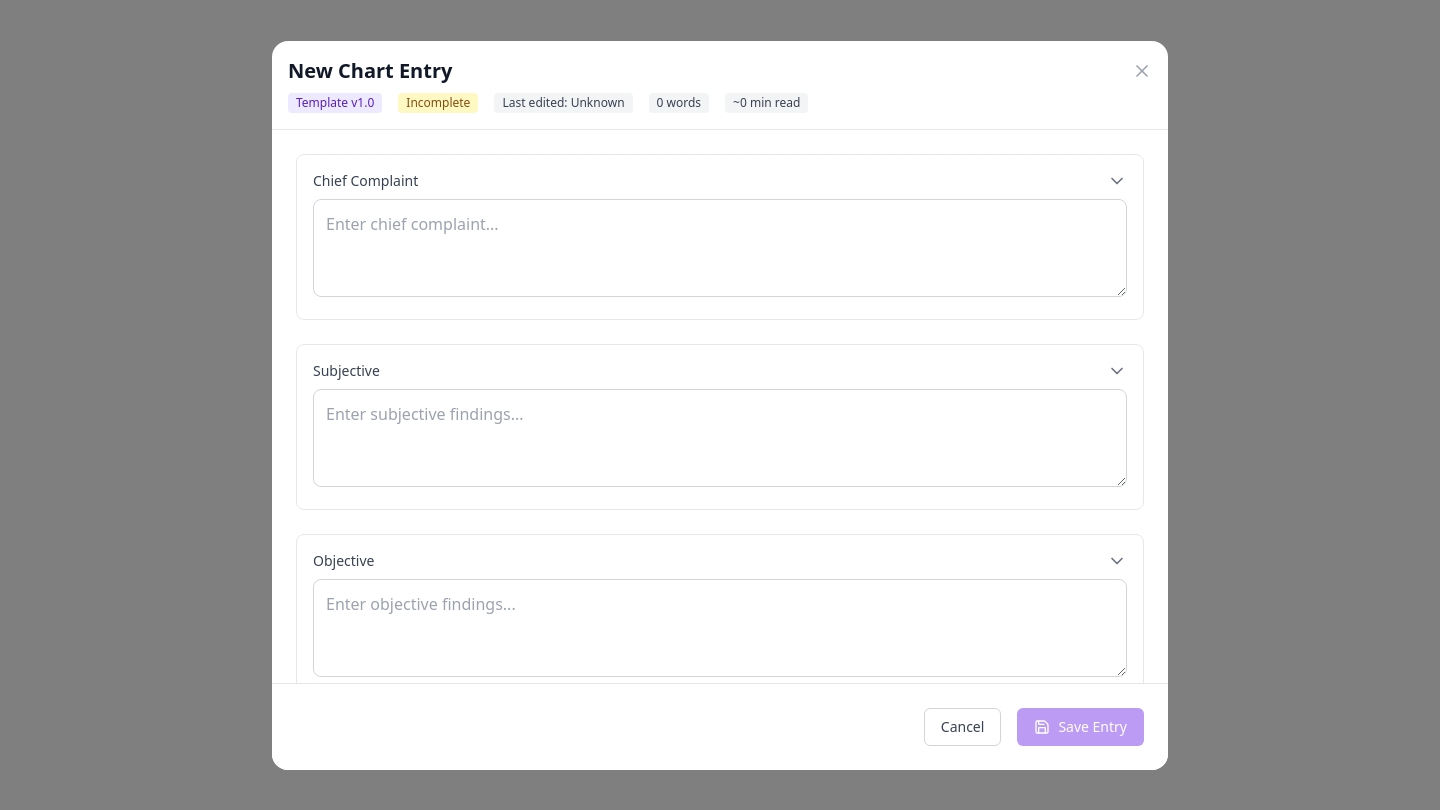
Test: NewChartEntryModal Integration › enables save button when form has content
Type "Patient reports feeling better" into the text box with placeholder "Enter subjective findings..." at x=720, y=438, box [313,388,1127,486]
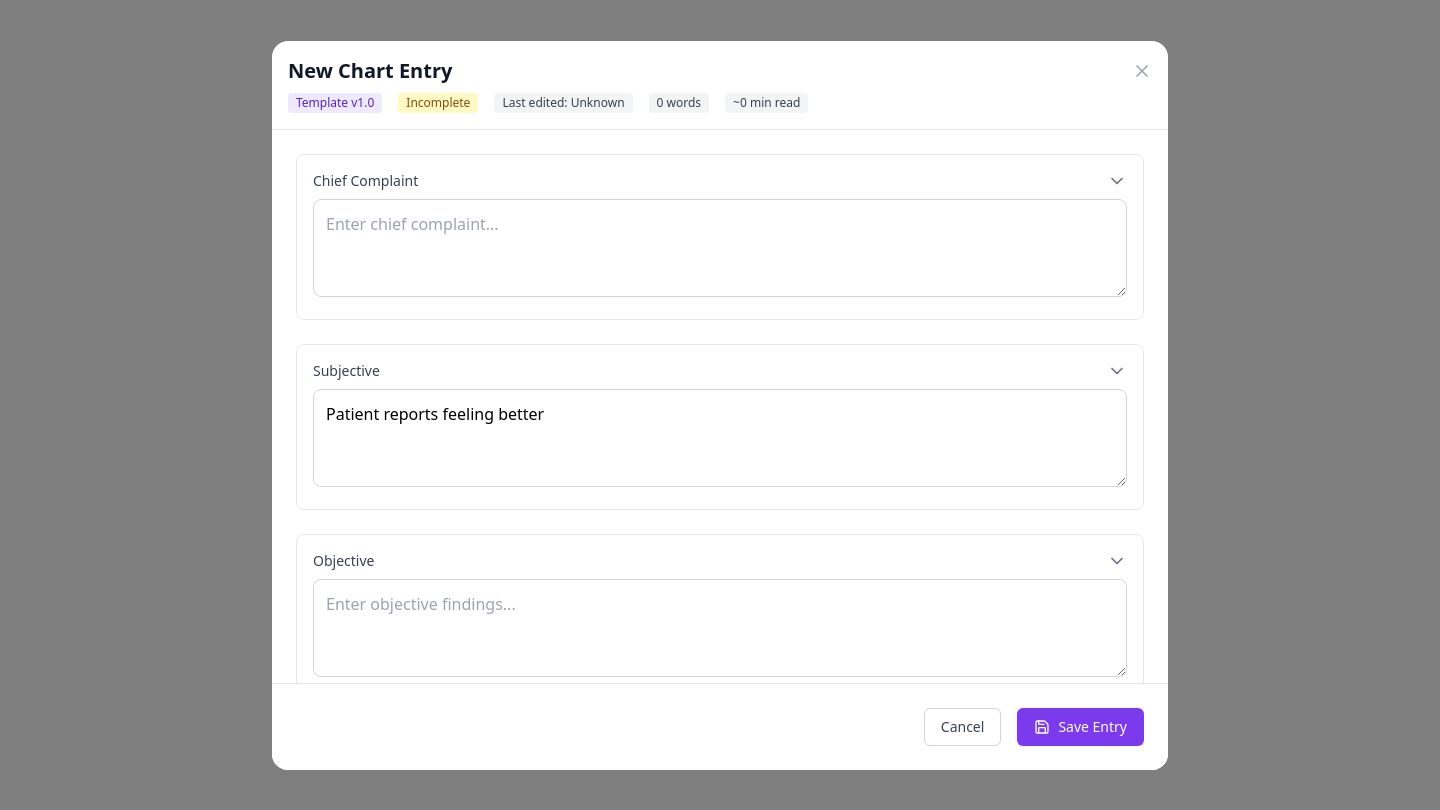
Check: the button "Save Entry" is enabled, box [1017,708,1144,746]
